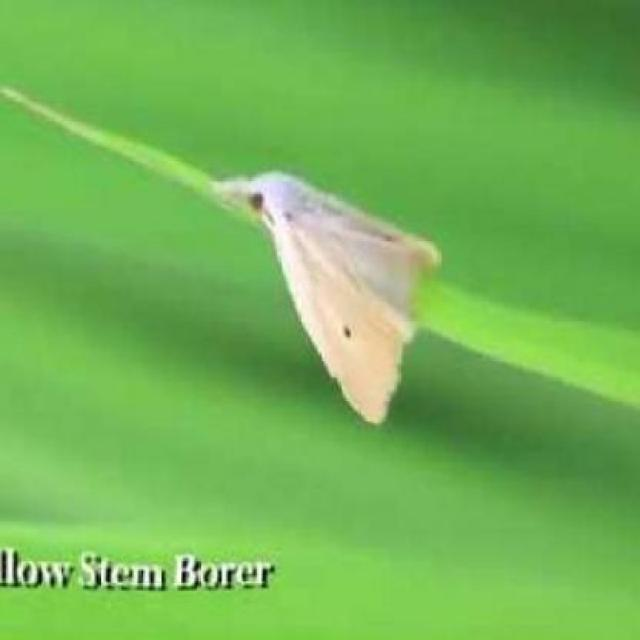stem-borer: (208, 168, 442, 428)
